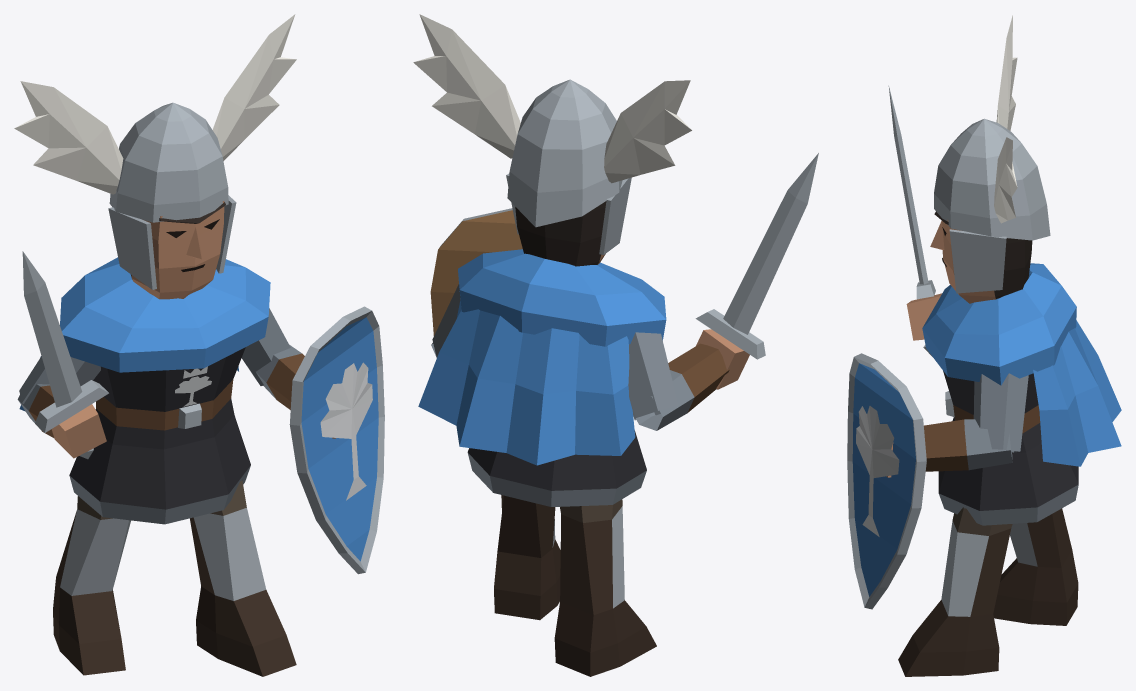
Rendered from beregond.glb.
3 renders of one model, left to right at view 1: azimuth 30°, elevation 25°; view 2: azimuth 150°, elevation 25°; view 3: azimuth 270°, elevation 25°, orthographic. The views are drawn at different scales.
Parts seen in each view (by area): view 1: beregond; view 2: beregond; view 3: beregond.
Part boxes in pixels (x1,y1,x2,y2): beregond: [14, 14, 384, 676]; beregond: [413, 14, 818, 676]; beregond: [847, 15, 1121, 676].
Size of the model in its own units: 1.1 by 1.67 by 0.7398.
